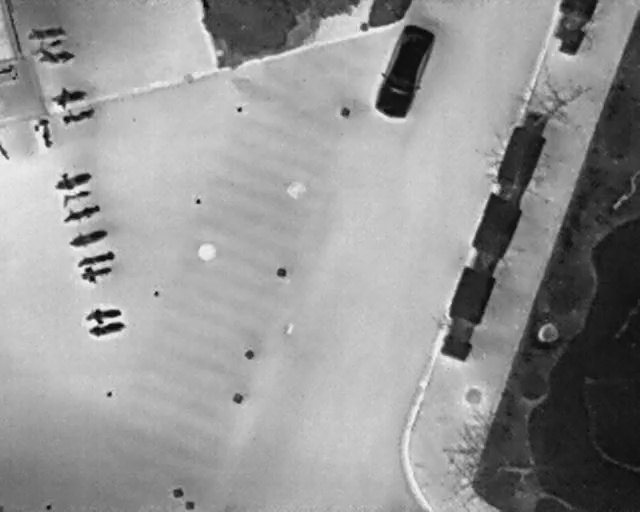Bicycle: (81, 300, 125, 329), (52, 165, 95, 194), (65, 225, 110, 252), (49, 83, 90, 112), (24, 32, 65, 60), (74, 246, 118, 271), (59, 100, 98, 128), (61, 201, 102, 226), (86, 318, 127, 342), (78, 260, 115, 286), (24, 22, 67, 41), (34, 46, 77, 65), (58, 186, 93, 209), (32, 117, 55, 150), (0, 139, 11, 163)
Car: (366, 17, 441, 125)
